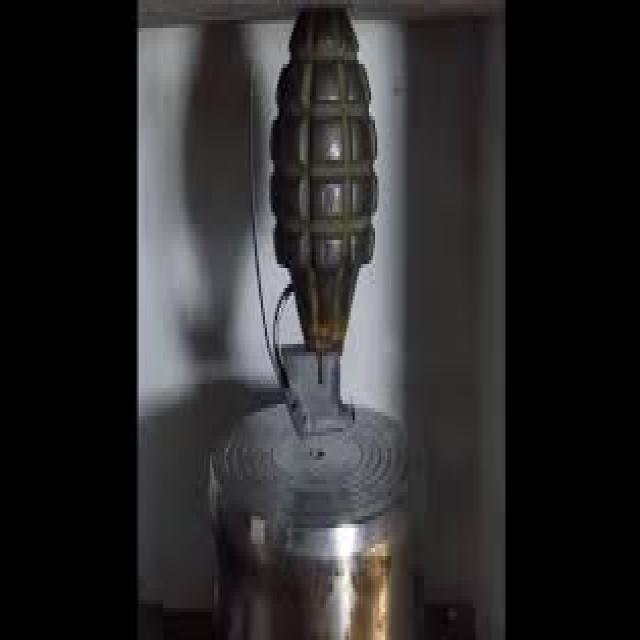grenade: (243, 1, 383, 443)
